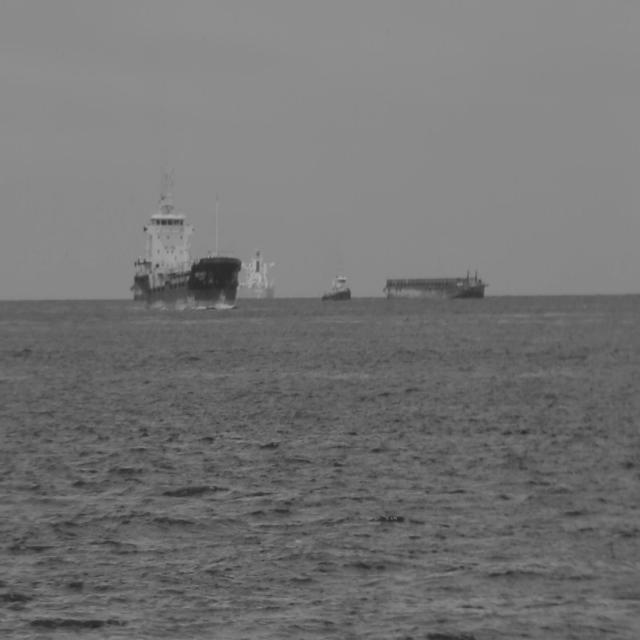ship: (128, 166, 242, 306), (376, 271, 482, 301), (233, 250, 272, 300)
